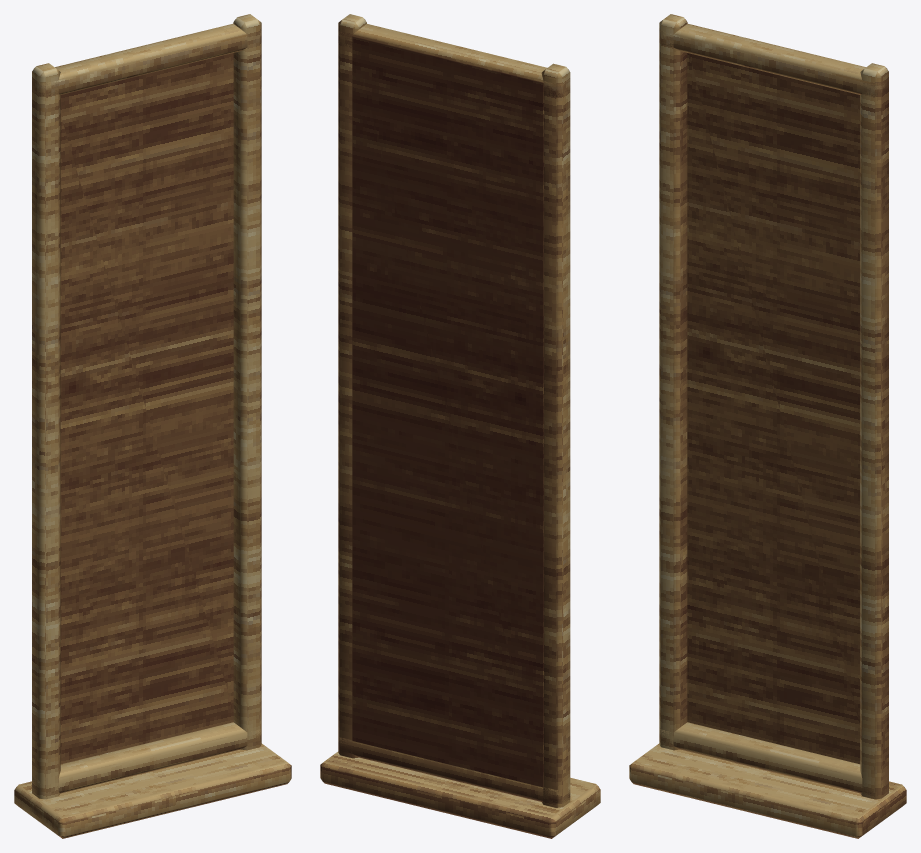
File: standing_mirror.glb
3 views of the same model, side by side, from view 1: azimuth 30°, elevation 25°; view 2: azimuth 150°, elevation 25°; view 3: azimuth 330°, elevation 25° (orthographic).
Visible parts, largest first — view 1: mesh; view 2: mesh; view 3: mesh.
Part boxes in pixels (box(x1,y1,x2,y2)): mesh: box(14, 14, 291, 838); mesh: box(320, 14, 600, 838); mesh: box(629, 14, 906, 838).
Bounding box in the file's own units: 0.4401 × 1.35 × 0.16.
1 material, 1 textured.
